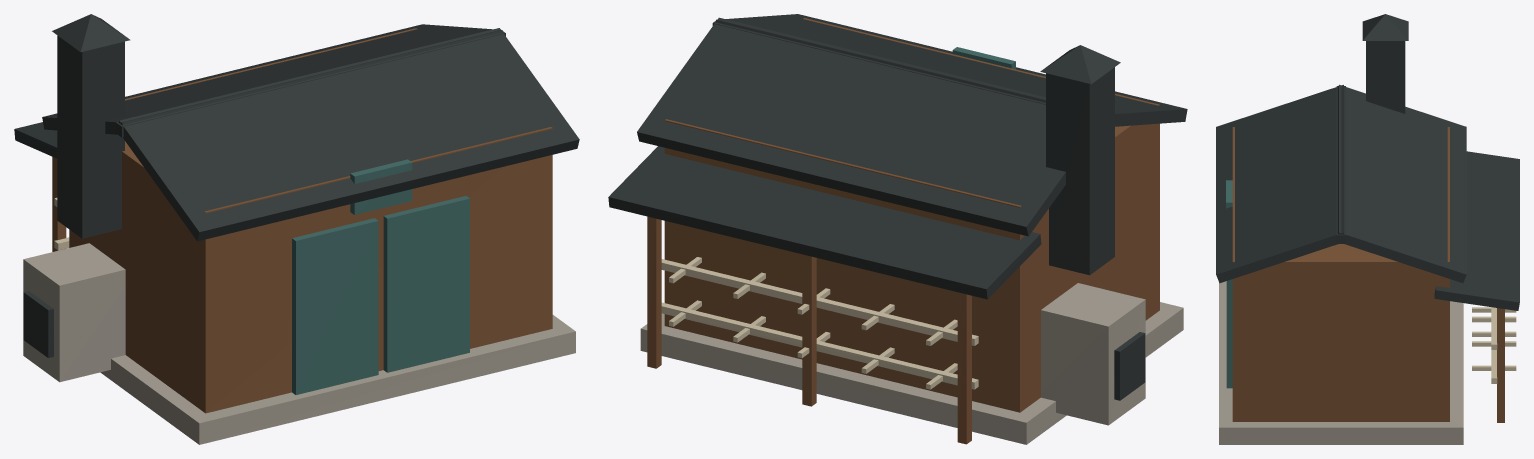
File: fish-smokehouse.source.glb
The picture shows the model from 3 angles, left to right: view 1: azimuth 30°, elevation 25°; view 2: azimuth 150°, elevation 25°; view 3: azimuth 270°, elevation 25°; orthographic projection. The views are drawn at different scales.
Parts seen in each view (by area): view 1: fish-smokehouse-gable-roof-panel-0.88-mesh, fish-smokehouse-timber-smokehouse-shell-mesh, fish-smokehouse-stone-foundation-mesh, fish-smokehouse-wide-loading-door-0.62-mesh, fish-smokehouse-wide-loading-door--0.62-mesh, fish-smokehouse-tall-smoke-stack-mesh, fish-smokehouse-masonry-firebox-mesh, fish-smokehouse-gable-roof-panel--0.88-mesh, fish-smokehouse-smoke-stack-cap-mesh, fish-smokehouse-firebox-door-mesh, fish-smokehouse-front-gable-vent-mesh, fish-smokehouse-narrow-rack-canopy-mesh (+2 smaller); view 2: fish-smokehouse-gable-roof-panel--0.88-mesh, fish-smokehouse-timber-smokehouse-shell-mesh, fish-smokehouse-narrow-rack-canopy-mesh, fish-smokehouse-stone-foundation-mesh, fish-smokehouse-tall-smoke-stack-mesh, fish-smokehouse-masonry-firebox-mesh, fish-smokehouse-gable-roof-panel-0.88-mesh, fish-smokehouse-empty-drying-rail-0.85-mesh, fish-smokehouse-empty-drying-rail-1.4-mesh, fish-smokehouse-rack-support-post--2.05-mesh, fish-smokehouse-rack-support-post-2.05-mesh, fish-smokehouse-rack-support-post-0-mesh (+2 smaller); view 3: fish-smokehouse-timber-smokehouse-shell-mesh, fish-smokehouse-gable-roof-panel-0.88-mesh, fish-smokehouse-gable-roof-panel--0.88-mesh, fish-smokehouse-narrow-rack-canopy-mesh, fish-smokehouse-stone-foundation-mesh, fish-smokehouse-tall-smoke-stack-mesh, fish-smokehouse-smoke-stack-cap-mesh, fish-smokehouse-rack-support-post-2.05-mesh, fish-smokehouse-wide-loading-door-0.62-mesh, fish-smokehouse-roof-ridge-mesh.
Part boxes in pixels (x1,y1,x2,y2): fish-smokehouse-gable-roof-panel-0.88-mesh: [119, 28, 579, 241]; fish-smokehouse-timber-smokehouse-shell-mesh: [69, 28, 552, 413]; fish-smokehouse-stone-foundation-mesh: [100, 315, 575, 444]; fish-smokehouse-wide-loading-door-0.62-mesh: [383, 196, 469, 372]; fish-smokehouse-wide-loading-door--0.62-mesh: [292, 218, 378, 394]; fish-smokehouse-tall-smoke-stack-mesh: [57, 35, 124, 238]; fish-smokehouse-masonry-firebox-mesh: [23, 243, 125, 382]; fish-smokehouse-gable-roof-panel--0.88-mesh: [42, 24, 502, 134]; fish-smokehouse-smoke-stack-cap-mesh: [52, 14, 130, 52]; fish-smokehouse-firebox-door-mesh: [23, 291, 53, 357]; fish-smokehouse-front-gable-vent-mesh: [350, 159, 412, 214]; fish-smokehouse-narrow-rack-canopy-mesh: [14, 122, 57, 158]; fish-smokehouse-gable-roof-panel--0.88-mesh: [637, 17, 1065, 236]; fish-smokehouse-timber-smokehouse-shell-mesh: [664, 18, 1159, 412]; fish-smokehouse-narrow-rack-canopy-mesh: [608, 146, 1041, 299]; fish-smokehouse-stone-foundation-mesh: [640, 302, 1183, 444]; fish-smokehouse-tall-smoke-stack-mesh: [1046, 67, 1114, 275]; fish-smokehouse-masonry-firebox-mesh: [1041, 283, 1145, 425]; fish-smokehouse-gable-roof-panel-0.88-mesh: [715, 14, 1187, 126]; fish-smokehouse-empty-drying-rail-0.85-mesh: [661, 302, 978, 389]; fish-smokehouse-empty-drying-rail-1.4-mesh: [661, 259, 978, 345]; fish-smokehouse-rack-support-post--2.05-mesh: [957, 292, 971, 444]; fish-smokehouse-rack-support-post-2.05-mesh: [647, 216, 661, 368]; fish-smokehouse-rack-support-post-0-mesh: [802, 254, 816, 406]; fish-smokehouse-timber-smokehouse-shell-mesh: [1232, 127, 1449, 421]; fish-smokehouse-gable-roof-panel-0.88-mesh: [1216, 85, 1344, 283]; fish-smokehouse-gable-roof-panel--0.88-mesh: [1336, 84, 1466, 283]; fish-smokehouse-narrow-rack-canopy-mesh: [1434, 151, 1519, 310]; fish-smokehouse-stone-foundation-mesh: [1219, 281, 1463, 444]; fish-smokehouse-tall-smoke-stack-mesh: [1366, 41, 1405, 113]; fish-smokehouse-smoke-stack-cap-mesh: [1362, 14, 1408, 40]; fish-smokehouse-rack-support-post-2.05-mesh: [1497, 308, 1504, 422]; fish-smokehouse-wide-loading-door-0.62-mesh: [1226, 279, 1232, 388]; fish-smokehouse-roof-ridge-mesh: [1336, 86, 1345, 243].
Bounding box in the file's own units: 5.92 × 4.6 × 4.47.
